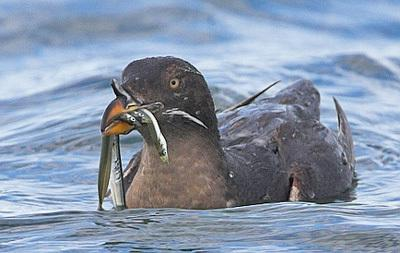008.Rhinoceros_Auklet: (96, 55, 360, 214)
